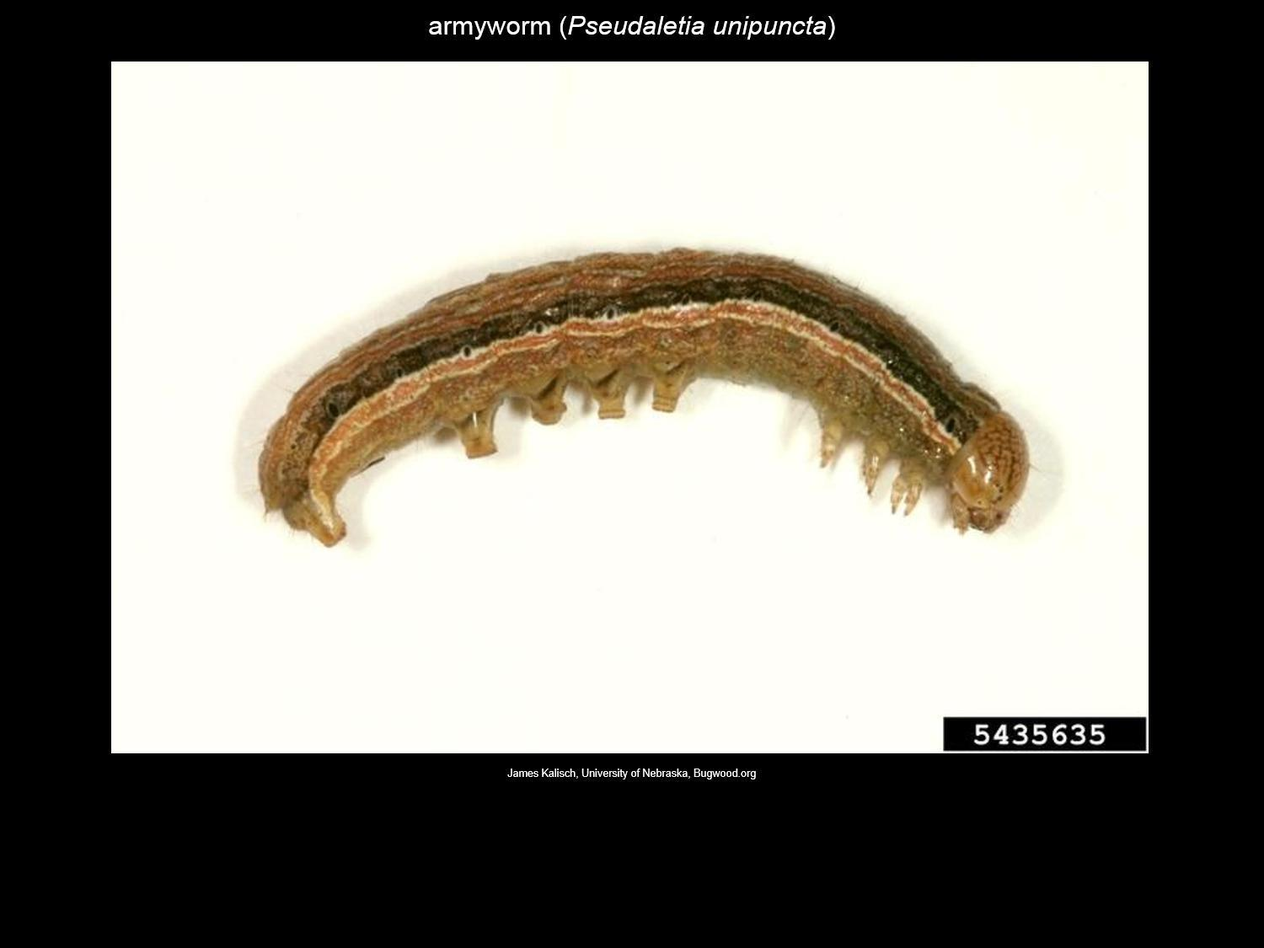caterpillars: (213, 178, 1072, 654)
